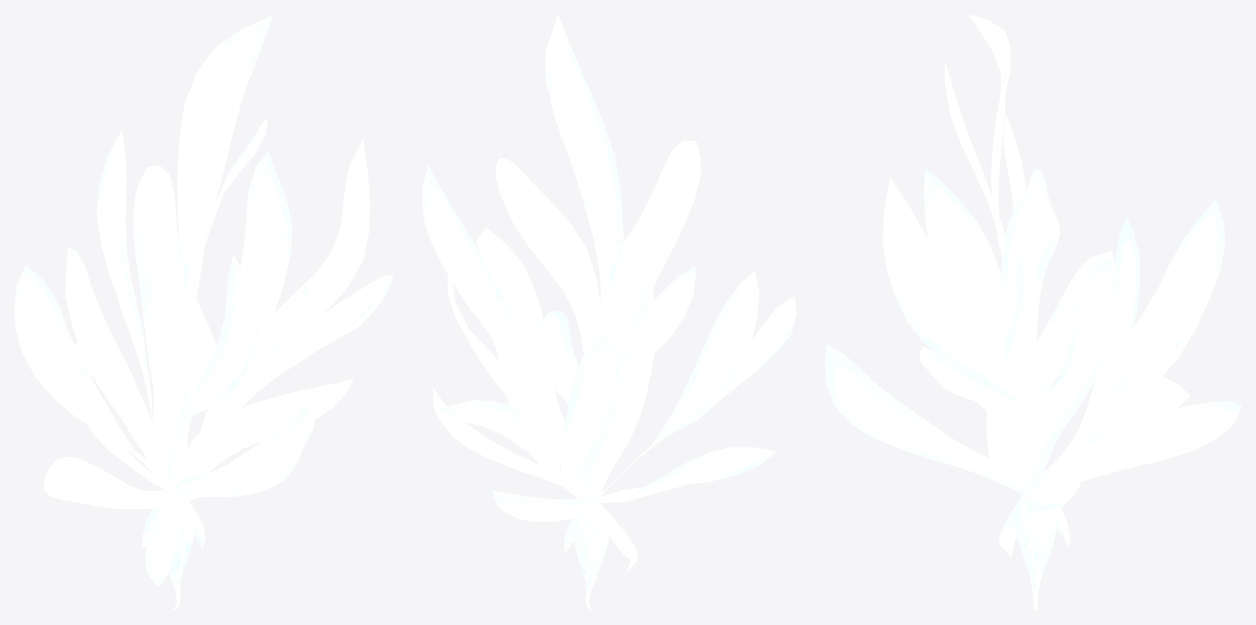
3 views of the same model, side by side, from view 1: azimuth 30°, elevation 25°; view 2: azimuth 150°, elevation 25°; view 3: azimuth 270°, elevation 25° (orthographic). The views are drawn at different scales.
Parts seen in each view (by area): view 1: SM_Toadflax_LOD0; view 2: SM_Toadflax_LOD0; view 3: SM_Toadflax_LOD0.
Boxes of the visible parts, bbox=[...] form: SM_Toadflax_LOD0: bbox=[14, 14, 393, 610]; SM_Toadflax_LOD0: bbox=[422, 14, 796, 610]; SM_Toadflax_LOD0: bbox=[825, 14, 1241, 610].
Bounding box in the file's own units: 0.5807 × 0.9353 × 0.5589.
1 material, 1 textured.
